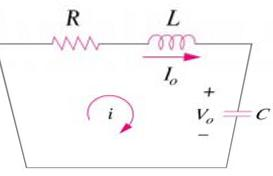inductor: (137, 30, 204, 55)
